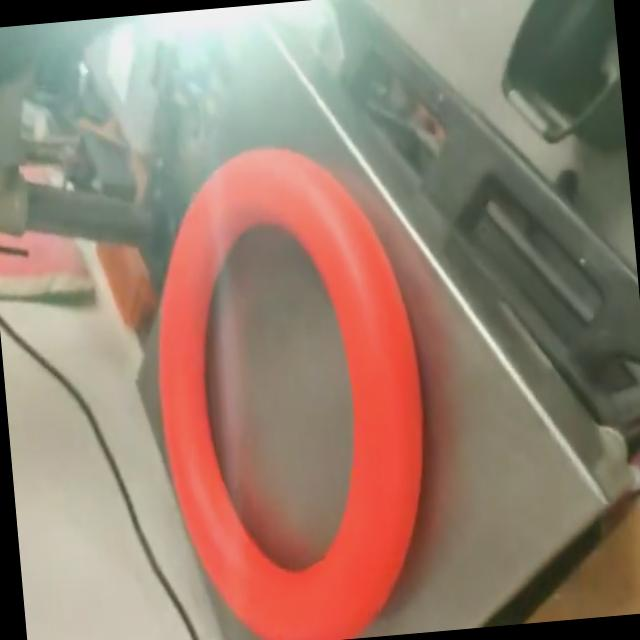note: (133, 126, 449, 640)
